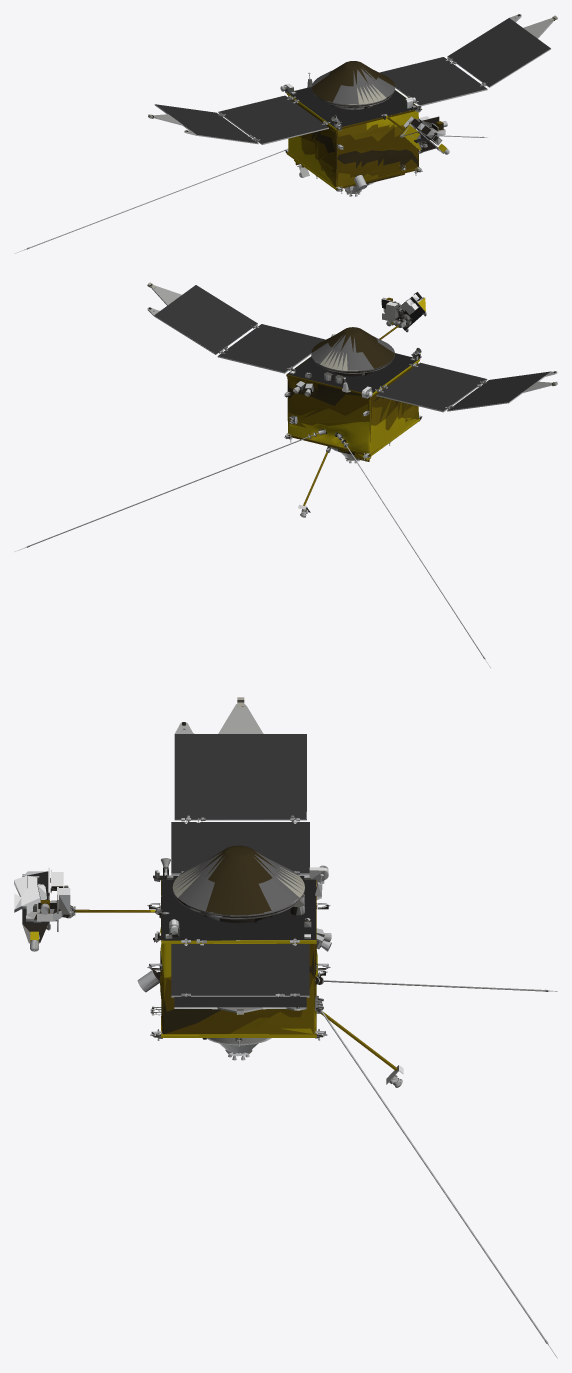
Rendered from maven.glb.
3 renders of one model, top to bottom at view 1: azimuth 30°, elevation 25°; view 2: azimuth 150°, elevation 25°; view 3: azimuth 270°, elevation 25°, orthographic. The views are drawn at different scales.
Visible parts, largest first — view 1: solar-panel, foil, body; view 2: solar-panel, foil, body; view 3: solar-panel, body, foil.
Boxes of the visible parts, x1,y1,x2,y2 form: solar-panel: (155,18,550,143); foil: (149,15,557,189); body: (14,14,555,253); solar-panel: (154,285,550,410); foil: (147,282,556,505); body: (14,284,557,667); solar-panel: (171,734,309,1007); body: (14,700,557,1358); foil: (30,697,397,1070).
Bounding box in the file's own units: 13.13 × 5.42 × 8.21.
